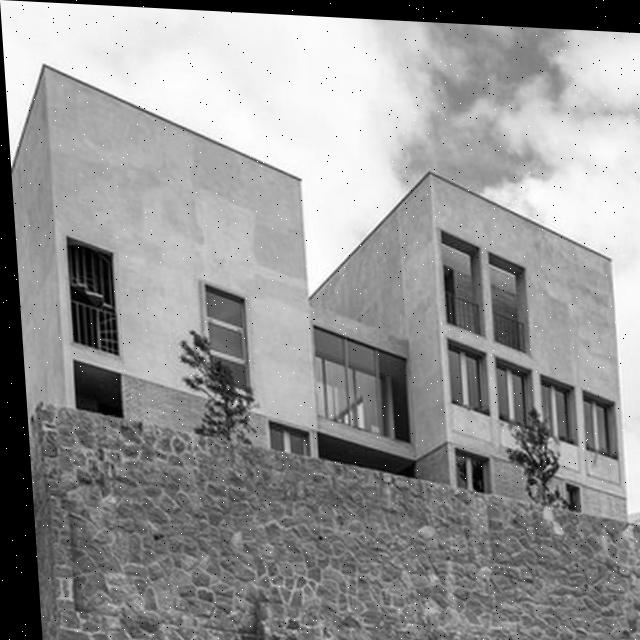building: (10, 66, 633, 527)
